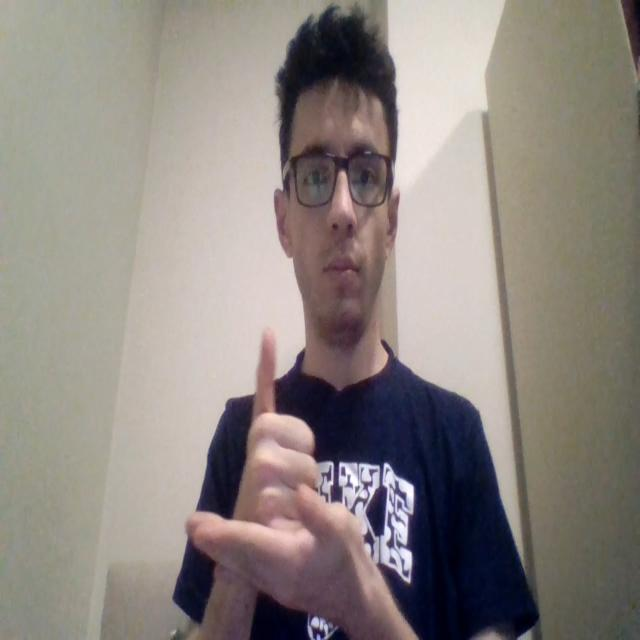help: (193, 324, 375, 608)
